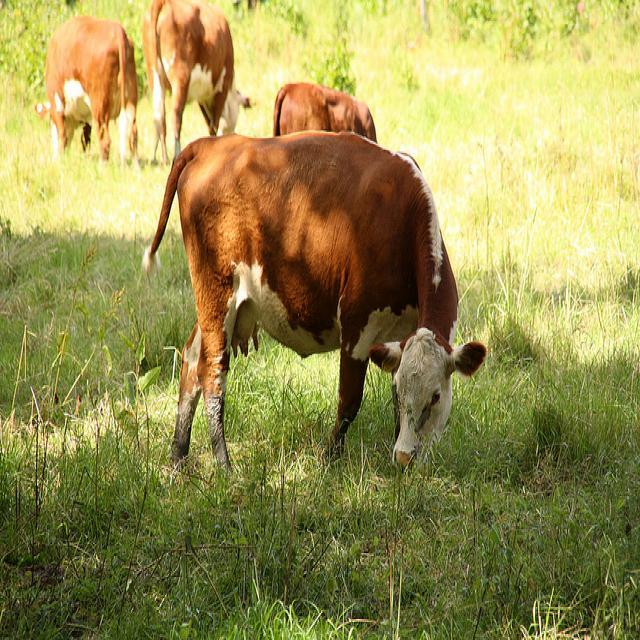cow: (144, 131, 488, 498), (141, 0, 255, 166), (34, 11, 135, 164), (272, 81, 377, 141)
